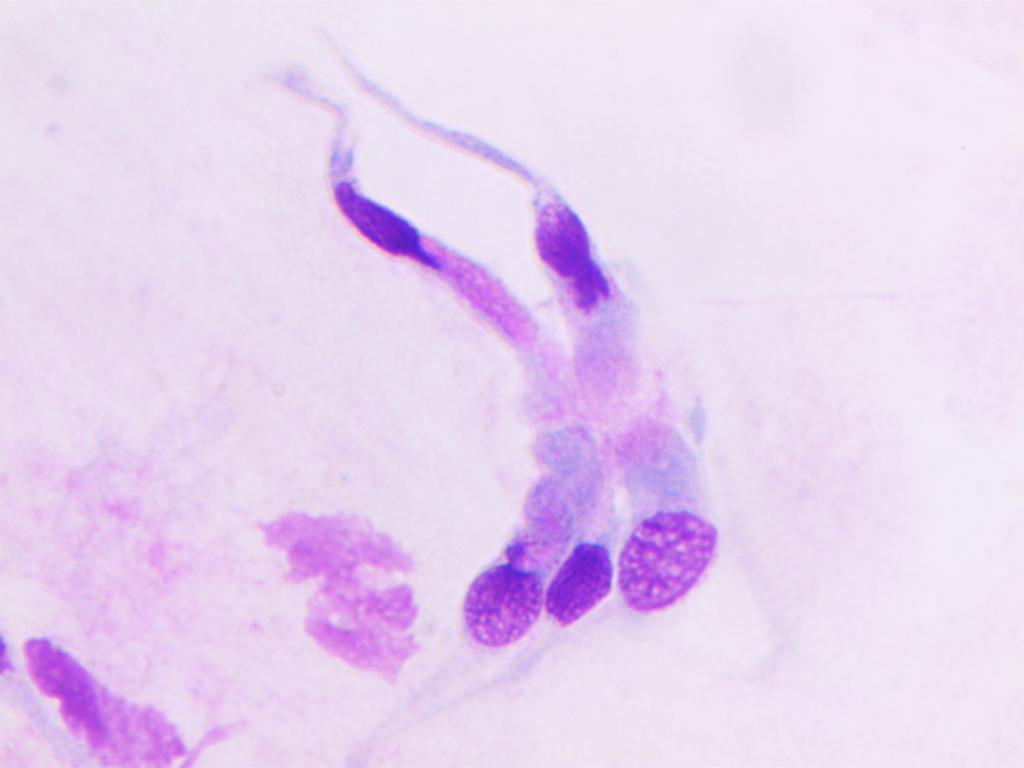artifact: (237, 511, 442, 702)
ciliated: (617, 411, 726, 626)
goblet_cell: (324, 170, 569, 410), (508, 161, 659, 427), (450, 434, 572, 660), (542, 481, 626, 641)
